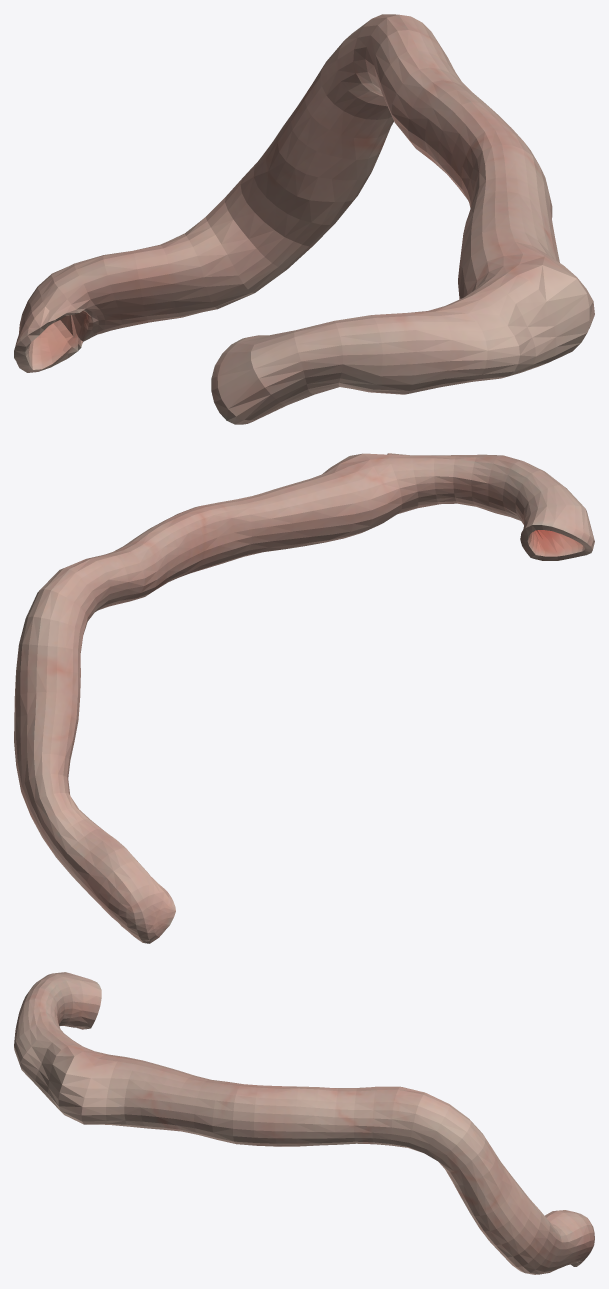
File: duodenum_LP.glb
The picture shows the model from 3 angles, top to bottom: view 1: azimuth 30°, elevation 25°; view 2: azimuth 150°, elevation 25°; view 3: azimuth 270°, elevation 25°; orthographic projection. The views are drawn at different scales.
Parts seen in each view (by area): view 1: duodenum_LP; view 2: duodenum_LP; view 3: duodenum_LP.
Part boxes in pixels (x1=…): duodenum_LP: x1=14, y1=14, x2=594, y2=424; duodenum_LP: x1=14, y1=453, x2=594, y2=943; duodenum_LP: x1=14, y1=972, x2=594, y2=1274.
Size of the model in its own units: 0.0023 by 0.00174 by 0.00372.
Materials: 1 (1 with a texture image).
